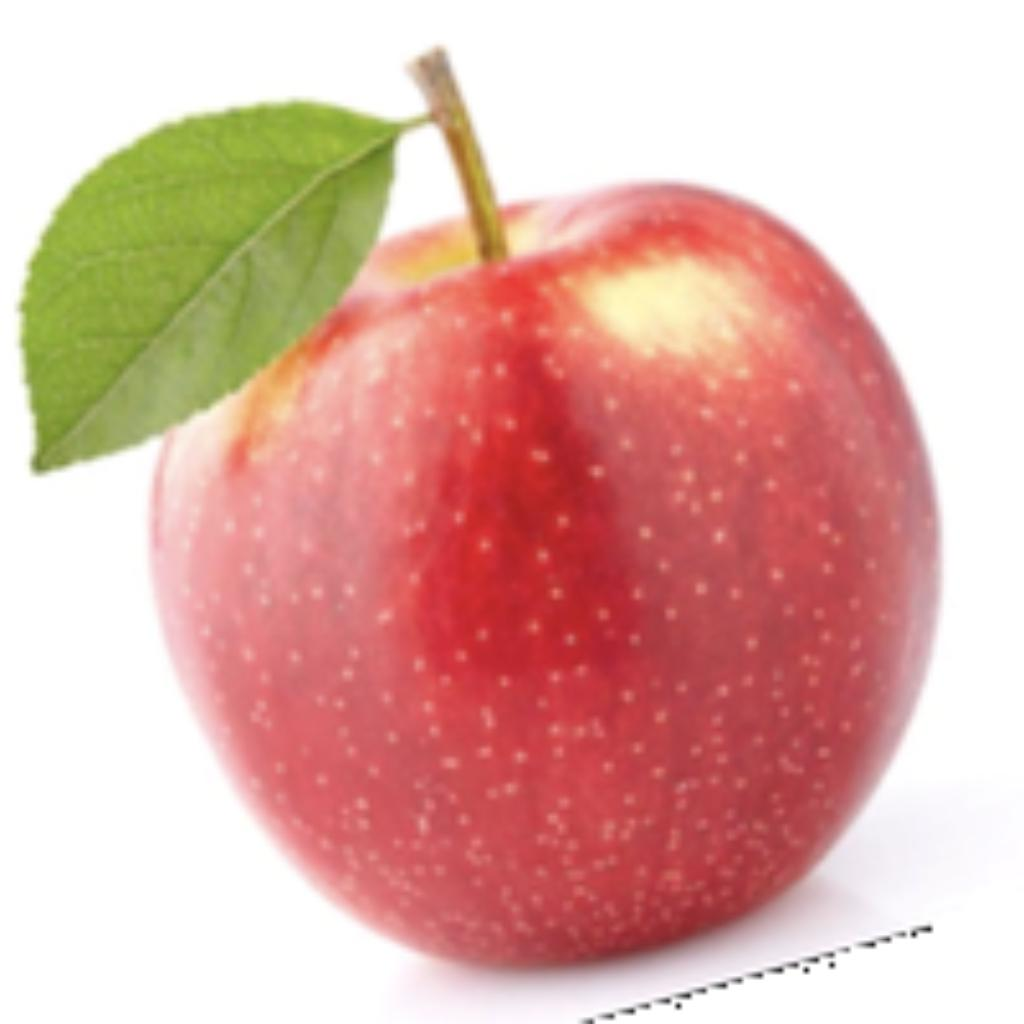apple: (10, 36, 947, 1019)
